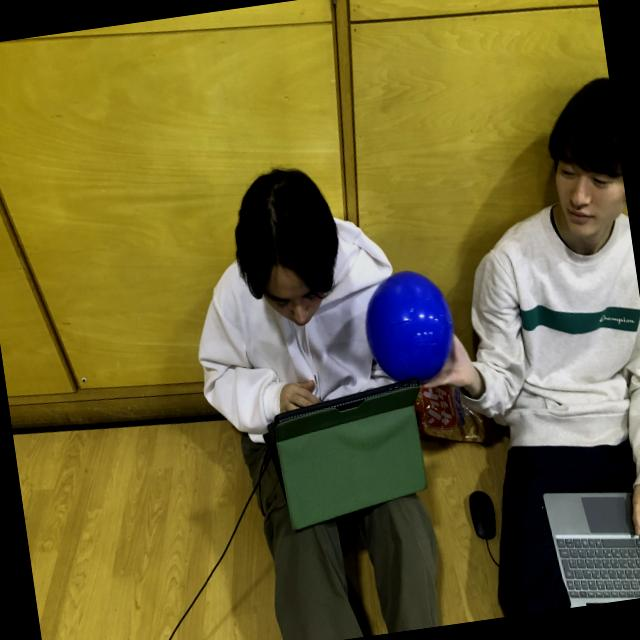blue_ball: (359, 266, 461, 392)
